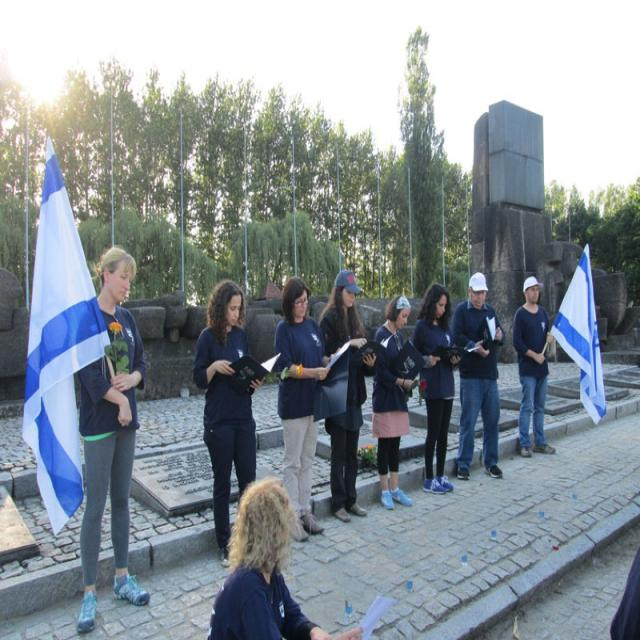body: (70, 242, 153, 636), (204, 478, 366, 640), (192, 278, 268, 566), (272, 275, 342, 542), (317, 266, 383, 524), (369, 290, 428, 511), (448, 269, 506, 482), (410, 281, 465, 496), (510, 273, 558, 459), (608, 538, 639, 640)
